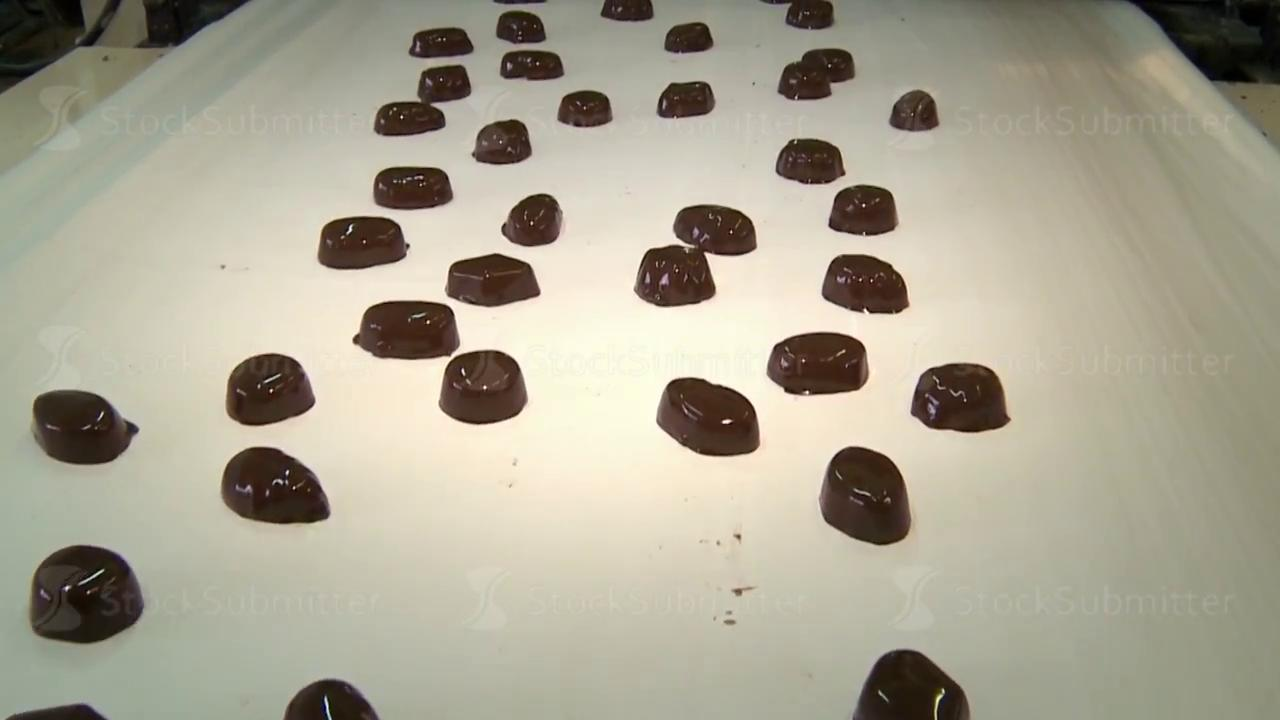chocolate: (29, 543, 144, 643), (819, 445, 911, 545), (221, 446, 330, 524), (851, 648, 970, 719), (30, 388, 139, 464), (656, 376, 759, 456), (911, 362, 1010, 432), (225, 352, 315, 425), (439, 349, 527, 423), (767, 331, 868, 395), (353, 300, 459, 359), (822, 253, 909, 314), (634, 244, 715, 306), (446, 253, 540, 306), (318, 215, 408, 269), (673, 204, 757, 254), (283, 678, 379, 719), (828, 184, 898, 235), (373, 166, 452, 209), (776, 137, 845, 184), (502, 193, 563, 246), (472, 118, 531, 164), (374, 100, 445, 135), (657, 80, 715, 118), (889, 89, 939, 131), (557, 89, 612, 127), (418, 64, 471, 101), (409, 27, 473, 57), (500, 50, 564, 80), (496, 10, 545, 43), (664, 21, 713, 53), (785, 0, 833, 29)
